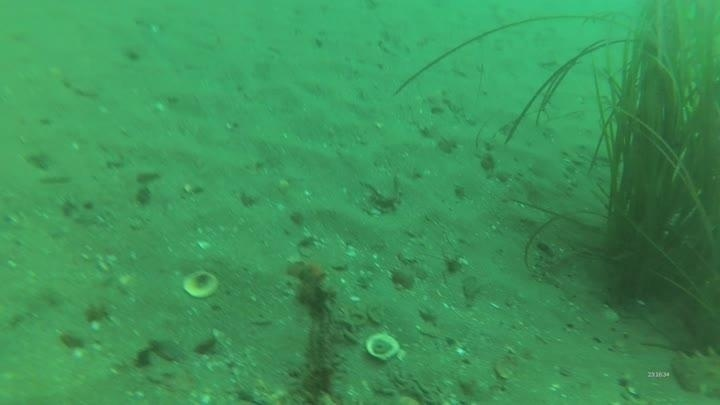holothurian: (669, 341, 720, 401)
